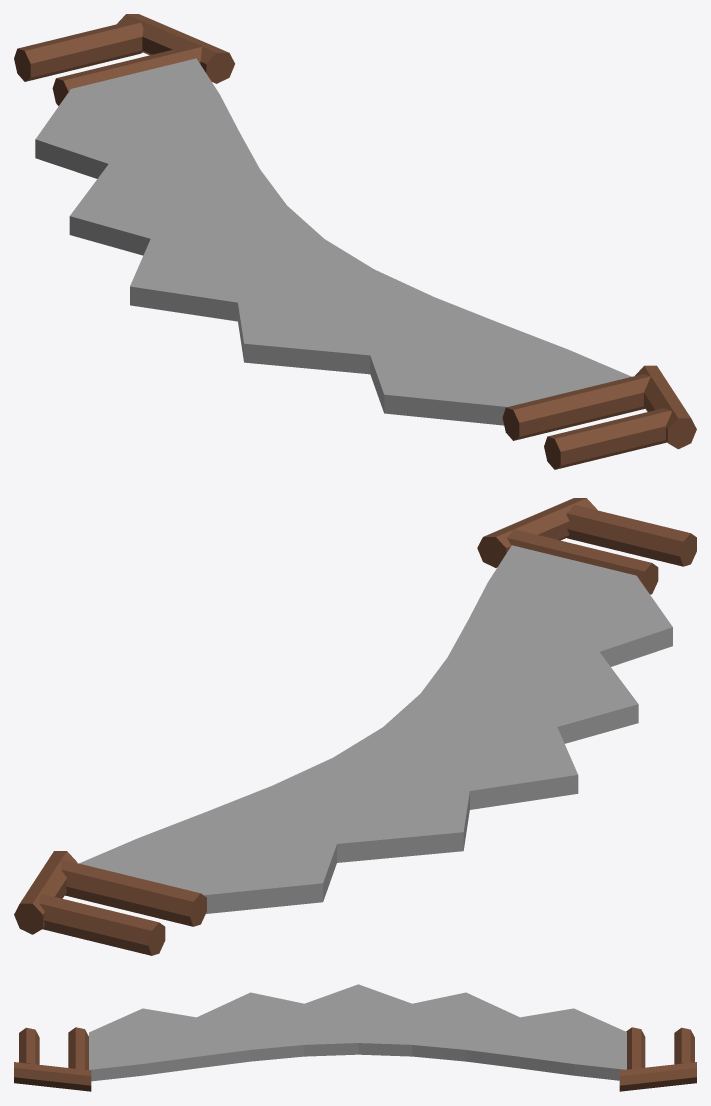
File: pila.fbx
3 renders of one model, top to bottom at view 1: azimuth 30°, elevation 25°; view 2: azimuth 150°, elevation 25°; view 3: azimuth 270°, elevation 25°, orthographic. The views are drawn at different scales.
Visible parts, largest first — view 1: pila; view 2: pila; view 3: pila.
Part boxes in pixels (bbox=[...]): pila: bbox=[14, 14, 696, 469]; pila: bbox=[14, 498, 696, 955]; pila: bbox=[14, 984, 696, 1091].
Bounding box in the file's own units: 528 × 49.54 × 1596.
